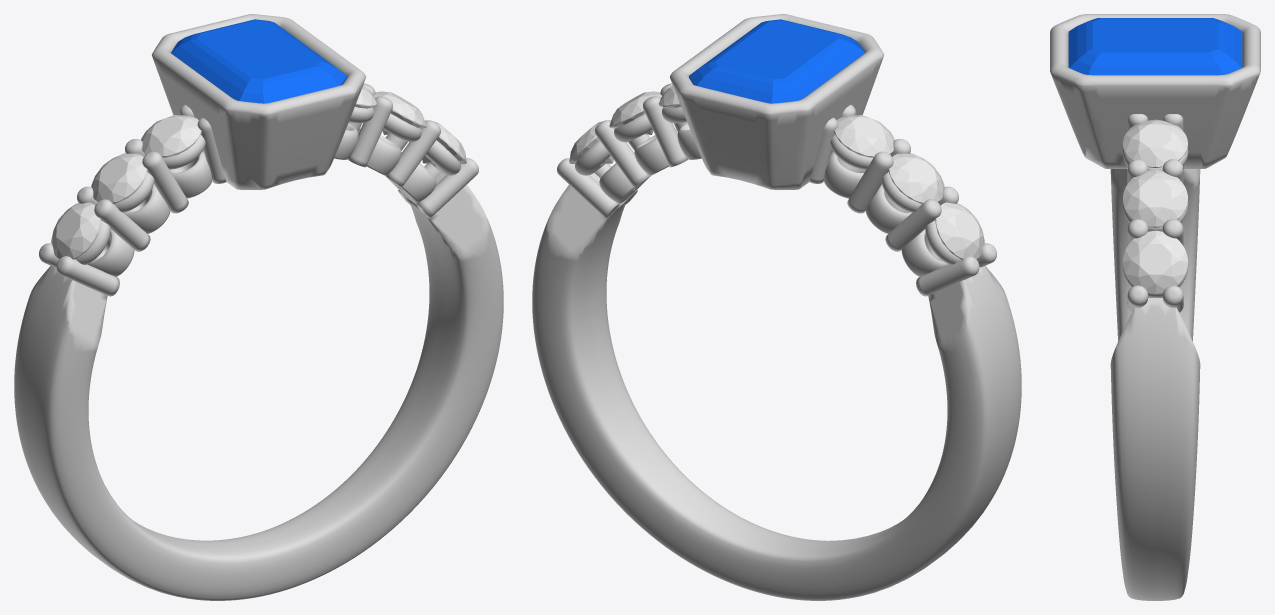
File: bluesapphire-emerald-platinum-bezelset-straighttaperedband-7stone.glb
3 renders of one model, left to right at view 1: azimuth 30°, elevation 25°; view 2: azimuth 150°, elevation 25°; view 3: azimuth 270°, elevation 25°, orthographic.
Visible parts, largest first — view 1: metal.001, stone.001, side.006, side.007, side.008, side.010; view 2: metal.001, stone.001, side.006, side.007, side.008, side.010; view 3: metal.001, stone.001, side.011, side.010, side.009.
Boxes of the visible parts, bbox=[...] form: metal.001: bbox=[14, 14, 503, 600]; stone.001: bbox=[171, 19, 346, 103]; side.006: bbox=[51, 202, 100, 259]; side.007: bbox=[91, 153, 147, 203]; side.008: bbox=[141, 115, 201, 157]; side.010: bbox=[373, 91, 426, 134]; metal.001: bbox=[532, 14, 1021, 600]; stone.001: bbox=[689, 19, 864, 103]; side.006: bbox=[935, 202, 984, 259]; side.007: bbox=[888, 153, 944, 203]; side.008: bbox=[834, 115, 894, 157]; side.010: bbox=[609, 91, 662, 134]; metal.001: bbox=[1050, 14, 1260, 600]; stone.001: bbox=[1068, 18, 1242, 75]; side.011: bbox=[1123, 230, 1187, 293]; side.010: bbox=[1123, 170, 1187, 227]; side.009: bbox=[1123, 119, 1187, 167].
Bounding box in the file's own units: 20.51 × 22.94 × 8.11.
